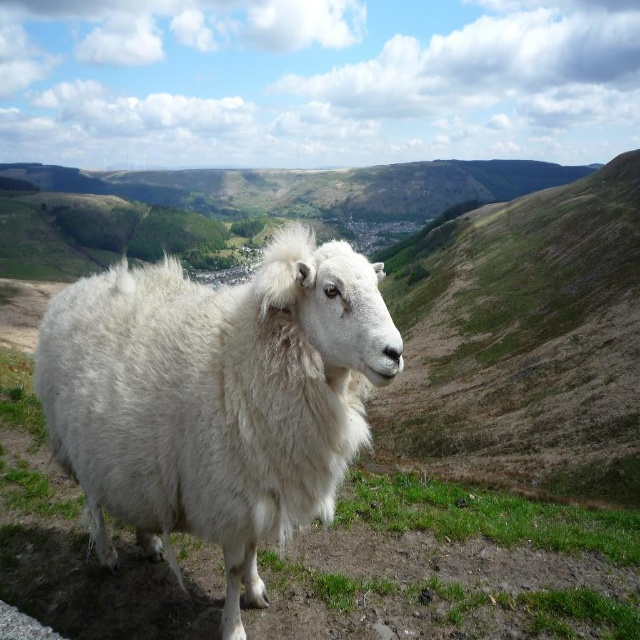Sheep: (33, 215, 403, 640)
